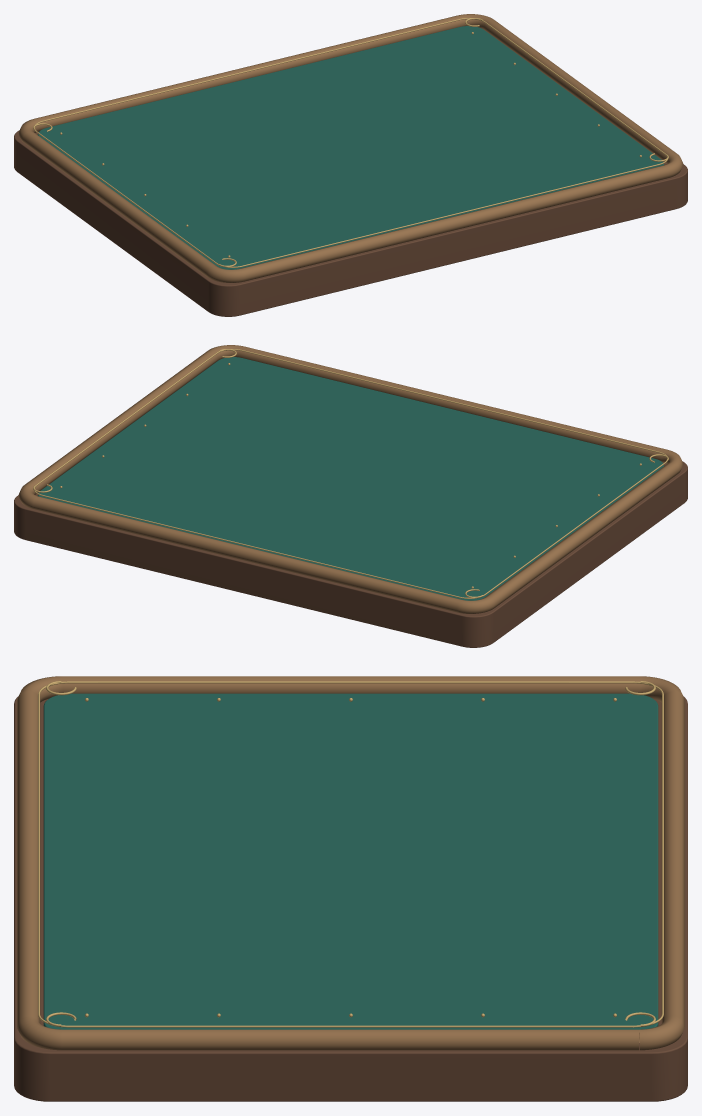
File: mahjong_table_crafted.glb
3 views of the same model, one above another, from view 1: azimuth 30°, elevation 25°; view 2: azimuth 150°, elevation 25°; view 3: azimuth 270°, elevation 25° (orthographic). The views are drawn at different scales.
Parts seen in each view (by area): view 1: Deep jade table baize, Waxed rosewood table, Polished worn timber edge, Champagne brass inlay; view 2: Deep jade table baize, Waxed rosewood table, Polished worn timber edge, Champagne brass inlay; view 3: Deep jade table baize, Polished worn timber edge, Waxed rosewood table, Champagne brass inlay.
Boxes of the visible parts, x1,y1,x2,y2 form: Deep jade table baize: [37, 26, 664, 269]; Waxed rosewood table: [14, 130, 687, 316]; Polished worn timber edge: [18, 14, 683, 282]; Champagne brass inlay: [33, 18, 668, 267]; Deep jade table baize: [37, 357, 664, 600]; Waxed rosewood table: [14, 461, 687, 647]; Polished worn timber edge: [18, 345, 683, 613]; Champagne brass inlay: [33, 349, 668, 598]; Deep jade table baize: [43, 693, 658, 1029]; Polished worn timber edge: [17, 676, 684, 1050]; Waxed rosewood table: [14, 696, 687, 1101]; Champagne brass inlay: [38, 681, 663, 1027].
Bounding box in the file's own units: 19 × 1.89 × 14.8.
